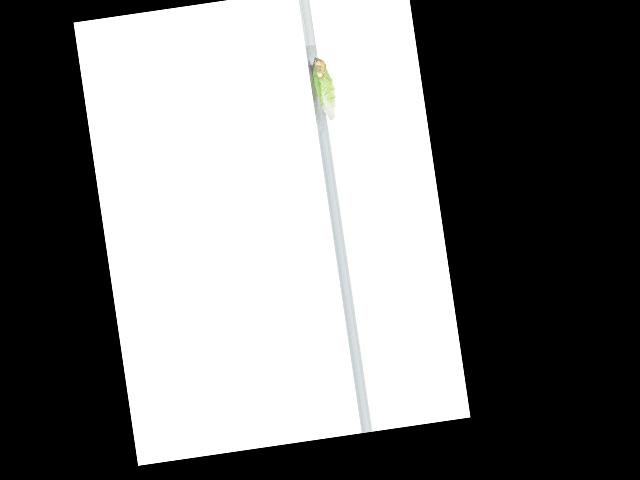lettuce: (306, 52, 341, 123)
